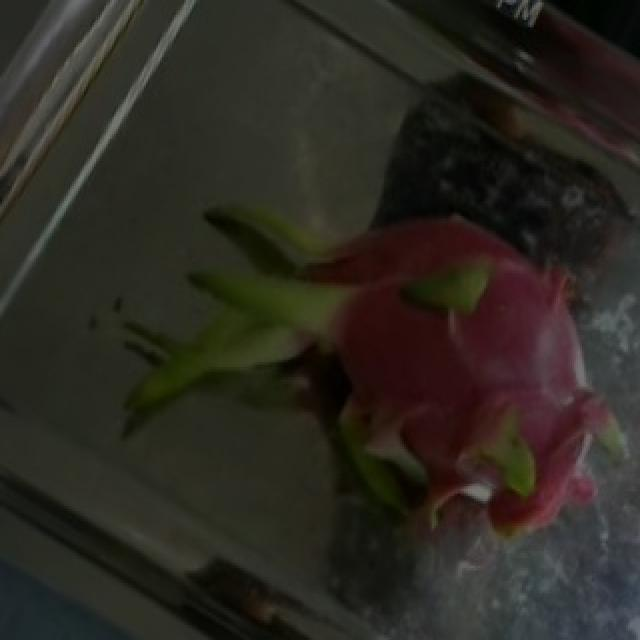fruit: (222, 144, 640, 598)
